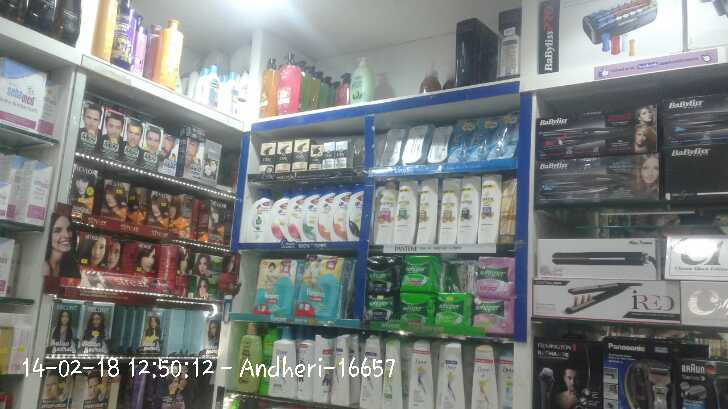venus: (454, 114, 480, 164), (493, 110, 521, 156), (404, 122, 429, 164), (383, 126, 404, 164), (430, 124, 448, 161), (480, 114, 493, 156)
